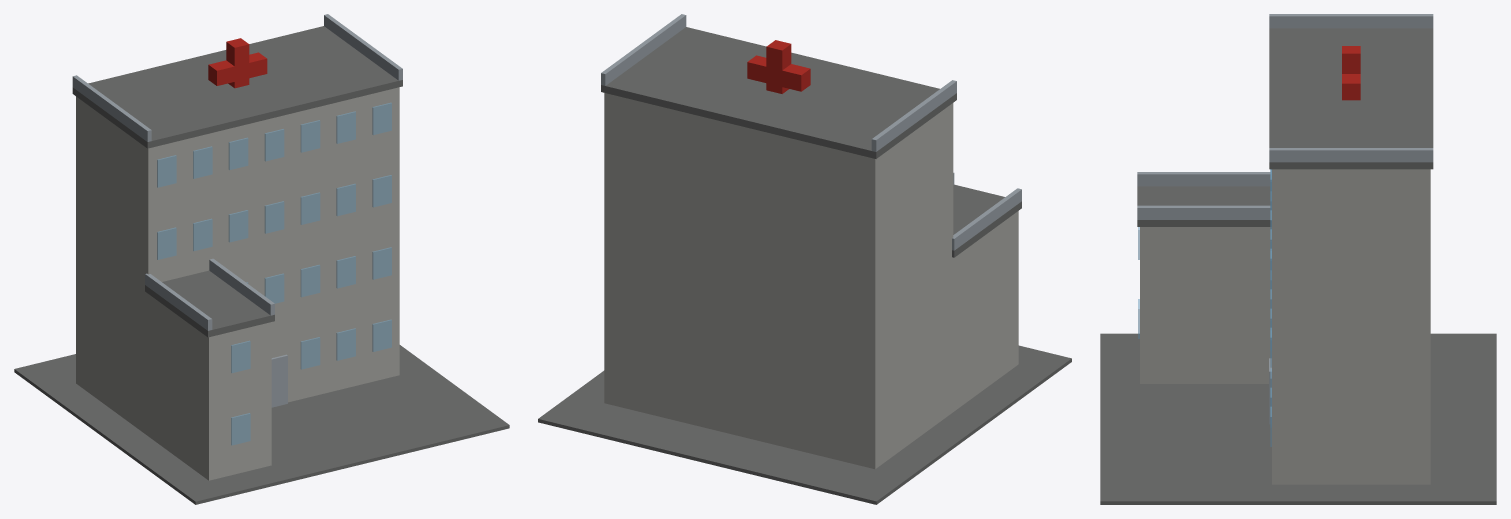
File: bld_special_hospital_a06_lod1.glb
3 views of the same model, side by side, from view 1: azimuth 30°, elevation 25°; view 2: azimuth 150°, elevation 25°; view 3: azimuth 270°, elevation 25° (orthographic). The views are drawn at different scales.
Parts seen in each view (by area): view 1: body; view 2: body; view 3: body.
Boxes of the visible parts, left/top/right/bottom form: body: left=14, top=14, right=509, bottom=504; body: left=538, top=14, right=1071, bottom=504; body: left=1100, top=14, right=1496, bottom=504.
Size of the model in its own units: 15 by 15.5 by 15.
